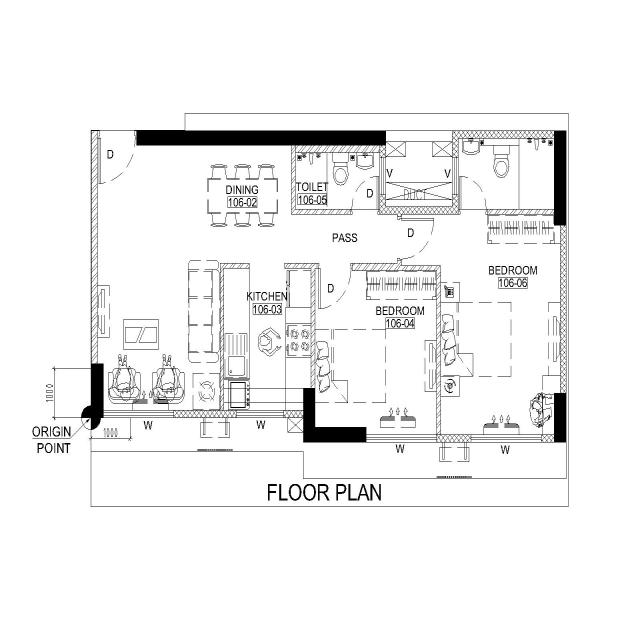Column: (133, 129, 388, 147), (302, 386, 368, 444), (554, 129, 568, 227), (90, 360, 104, 420), (554, 390, 568, 445)
Door: (88, 128, 136, 139), (318, 261, 354, 273), (396, 217, 403, 260), (349, 208, 381, 216), (458, 208, 488, 215)
Opening: (246, 262, 286, 270)
Ventilator: (451, 156, 460, 198), (379, 156, 386, 196)
Window: (100, 408, 175, 421), (469, 433, 544, 444), (364, 433, 438, 444), (235, 408, 287, 420)
